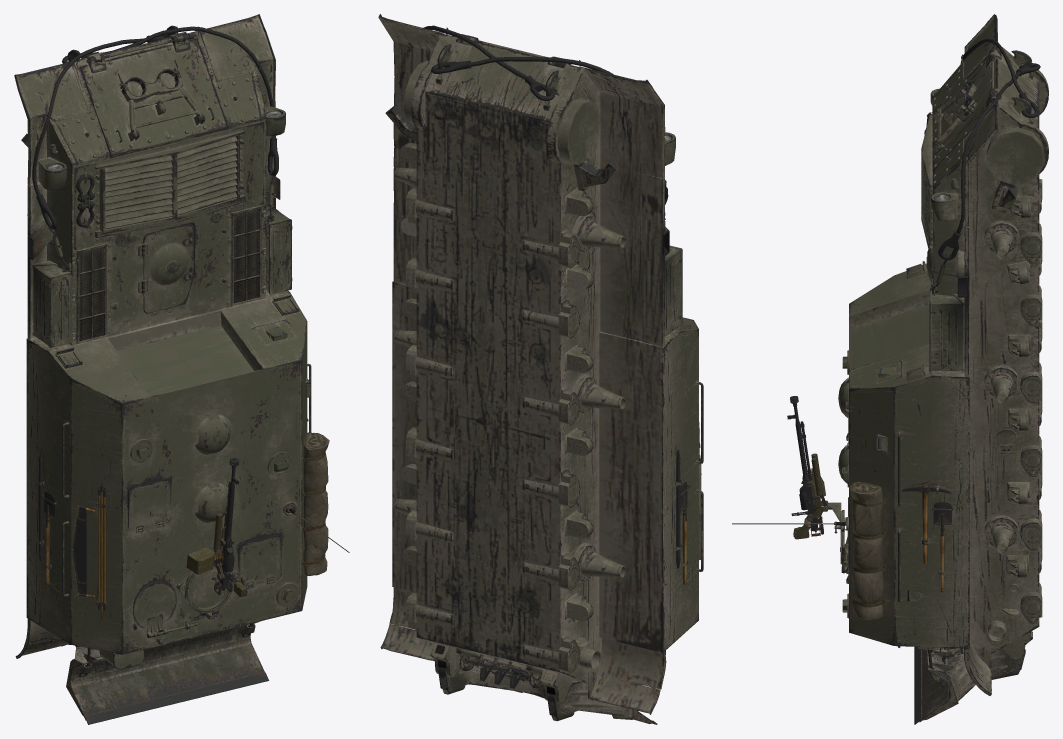
Rendered from Hull.glb.
3 renders of one model, left to right at view 1: azimuth 30°, elevation 25°; view 2: azimuth 150°, elevation 25°; view 3: azimuth 270°, elevation 25°, orthographic. The views are drawn at different scales.
Parts seen in each view (by area): view 1: set_0_group_0, set_0_group_1; view 2: set_0_group_0, set_0_group_1; view 3: set_0_group_0, set_0_group_1.
Boxes of the visible parts, x1=… form: set_0_group_0: x1=14, y1=14, x2=349, y2=724; set_0_group_1: x1=32, y1=26, x2=329, y2=677; set_0_group_0: x1=378, y1=14, x2=703, y2=724; set_0_group_1: x1=423, y1=25, x2=701, y2=688; set_0_group_0: x1=732, y1=14, x2=1048, y2=724; set_0_group_1: x1=787, y1=38, x2=1040, y2=687.
Bounding box in the file's own units: 3.06 × 7.33 × 3.43.
2 materials, 2 textured.
